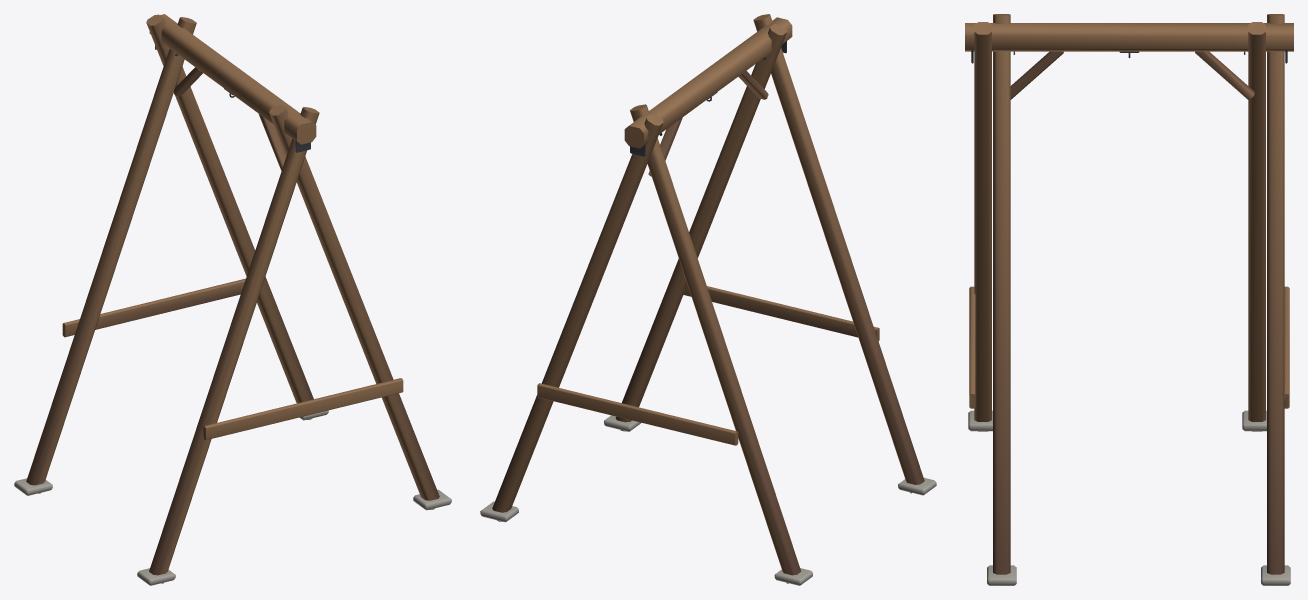
File: SwingFrame.fbx
The picture shows the model from 3 angles, left to right: view 1: azimuth 30°, elevation 25°; view 2: azimuth 150°, elevation 25°; view 3: azimuth 270°, elevation 25°; orthographic projection. The views are drawn at different scales.
Visible parts, largest first — view 1: SwingFrame; view 2: SwingFrame; view 3: SwingFrame.
Boxes of the visible parts, x1,y1,x2,y2 form: SwingFrame: (14,14,451,585); SwingFrame: (480,14,936,585); SwingFrame: (965,14,1293,585).
Size of the model in its own units: 3.22 by 4.32 by 2.64.
